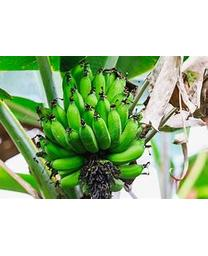banana: (35, 69, 148, 189)
